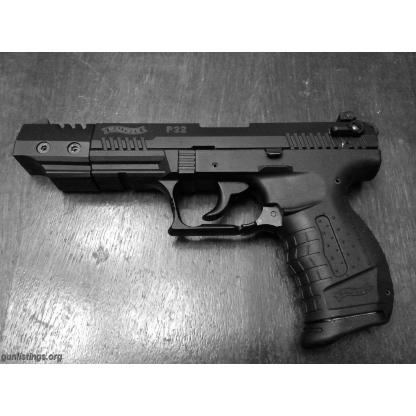gun: (10, 109, 396, 349)
